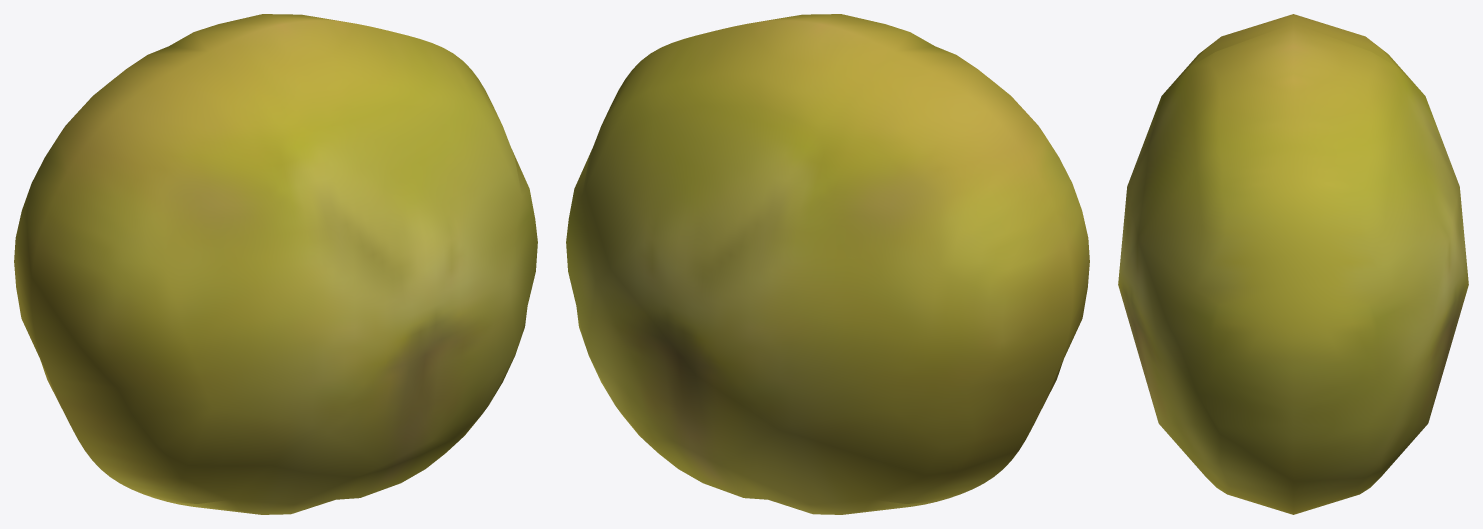
File: SemillaVerde.glb
3 views of the same model, side by side, from view 1: azimuth 30°, elevation 25°; view 2: azimuth 150°, elevation 25°; view 3: azimuth 270°, elevation 25° (orthographic). The views are drawn at different scales.
Visible parts, largest first — view 1: mm_frame.002; view 2: mm_frame.002; view 3: mm_frame.002.
Part boxes in pixels (box(x1,y1,x2,y2)): mm_frame.002: box(14, 14, 537, 514); mm_frame.002: box(566, 14, 1089, 514); mm_frame.002: box(1118, 14, 1468, 514).
Size of the model in its own units: 0.5247 by 0.4899 by 0.3603.
1 material, 1 textured.
